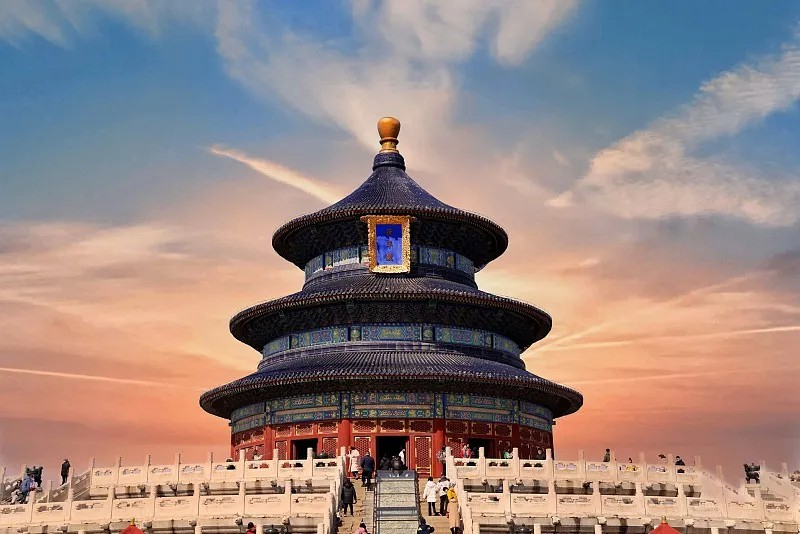Heaven: (199, 117, 584, 472)
